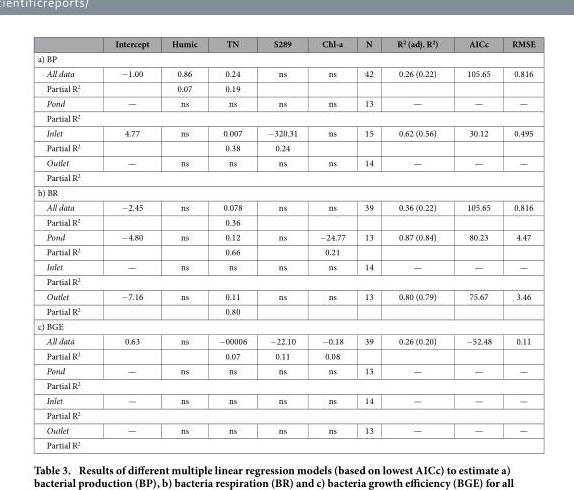table: (36, 37, 534, 450)
table column: (384, 37, 451, 450), (96, 37, 159, 450), (36, 37, 96, 450), (256, 37, 307, 450), (451, 37, 501, 450), (207, 37, 256, 450), (159, 37, 207, 450), (307, 37, 354, 450), (501, 37, 534, 450), (354, 37, 384, 450)
table column header: (36, 37, 534, 50)
table projected row header: (36, 50, 534, 65), (36, 110, 534, 125), (36, 169, 534, 184), (36, 184, 534, 199), (36, 273, 534, 288), (36, 318, 534, 333), (36, 377, 534, 392), (36, 407, 534, 422), (36, 437, 534, 450)
table row: (36, 50, 534, 65), (36, 65, 534, 80), (36, 80, 534, 95), (36, 95, 534, 110), (36, 110, 534, 125), (36, 125, 534, 140), (36, 154, 534, 169), (36, 169, 534, 184), (36, 184, 534, 199), (36, 199, 534, 214), (36, 214, 534, 229), (36, 229, 534, 244), (36, 258, 534, 273), (36, 273, 534, 288), (36, 288, 534, 303), (36, 303, 534, 318), (36, 318, 534, 333), (36, 333, 534, 348), (36, 362, 534, 377), (36, 377, 534, 392), (36, 392, 534, 407), (36, 407, 534, 422), (36, 422, 534, 437), (36, 140, 534, 154), (36, 244, 534, 258), (36, 348, 534, 362), (36, 37, 534, 50), (36, 437, 534, 450)
